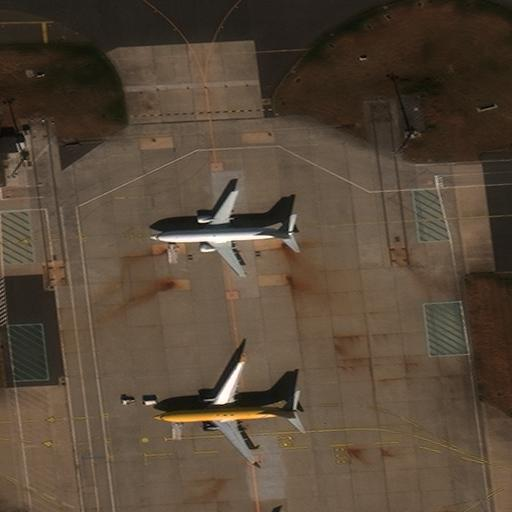Medium Civil Transport: (153, 361, 296, 465), (150, 191, 293, 276)
